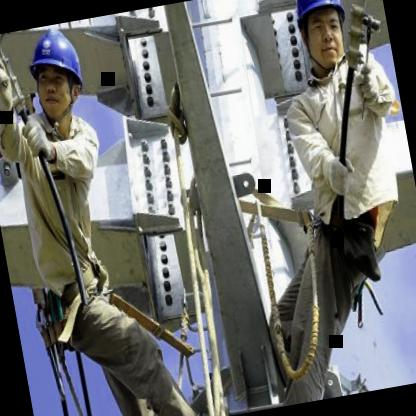helmet: (20, 20, 96, 129), (284, 0, 360, 79)
